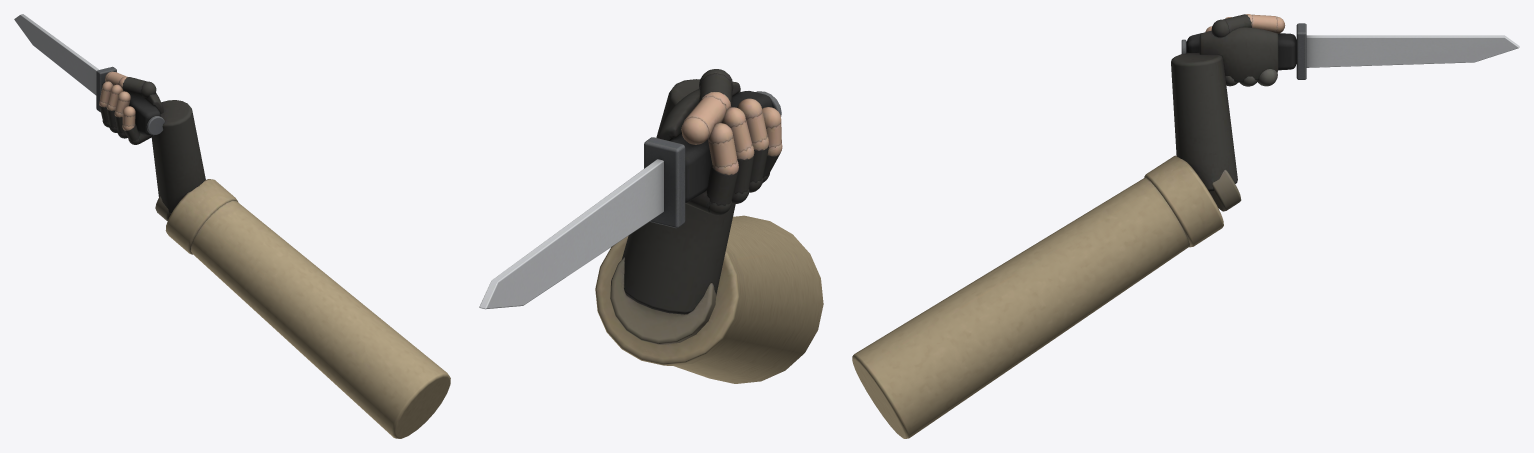
The model's file is kniv.glb.
The picture shows the model from 3 angles, left to right: view 1: azimuth 30°, elevation 25°; view 2: azimuth 150°, elevation 25°; view 3: azimuth 270°, elevation 25°; orthographic projection. The views are drawn at different scales.
Visible parts, largest first — view 1: hænder, kniv; view 2: hænder, kniv; view 3: hænder, kniv.
Part boxes in pixels (bbox=[...]): hænder: bbox=[99, 71, 450, 438]; kniv: bbox=[14, 14, 164, 135]; hænder: bbox=[595, 69, 823, 383]; kniv: bbox=[479, 91, 781, 309]; hænder: bbox=[852, 14, 1285, 438]; kniv: bbox=[1181, 23, 1519, 79].
Size of the model in its own units: 0.2645 by 0.3725 by 0.6604.
2 materials, 2 textured.
